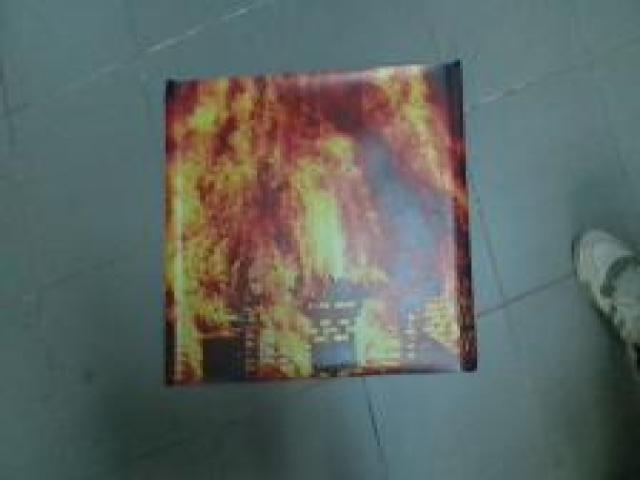fire-poster: (157, 58, 480, 388)
